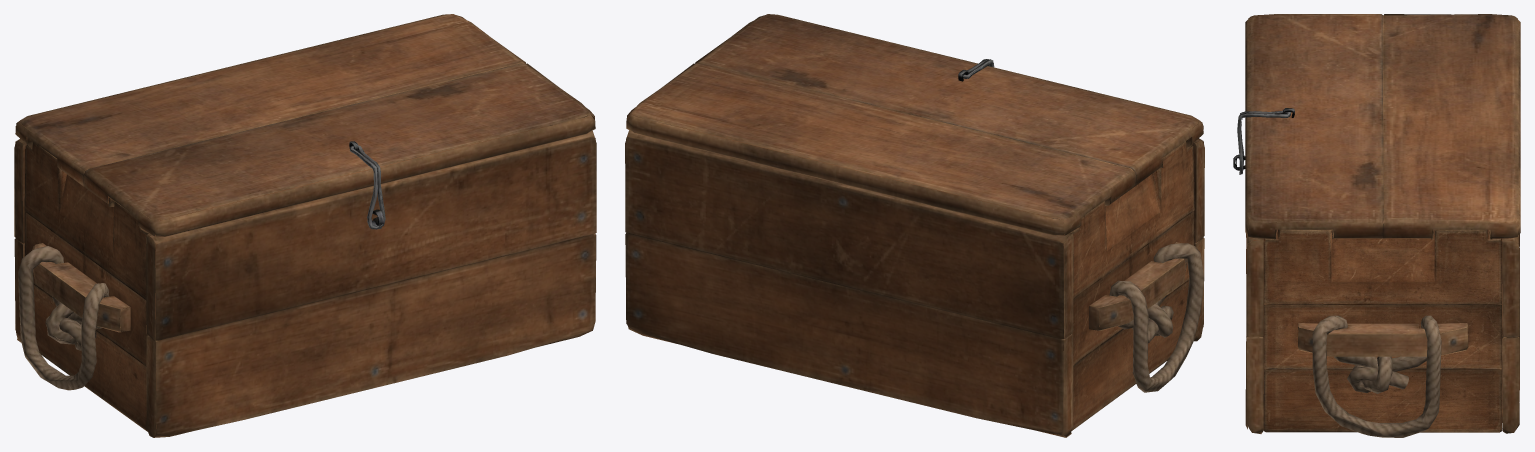
File: wooden_crate_01_1k.gltf
The picture shows the model from 3 angles, left to right: view 1: azimuth 30°, elevation 25°; view 2: azimuth 150°, elevation 25°; view 3: azimuth 270°, elevation 25°; orthographic projection. The views are drawn at different scales.
Parts seen in each view (by area): view 1: wooden_crate_01, wooden_crate_01_lid, wooden_crate_01_latch; view 2: wooden_crate_01, wooden_crate_01_lid; view 3: wooden_crate_01_lid, wooden_crate_01, wooden_crate_01_latch.
Boxes of the visible parts, x1,y1,x2,y2 form: wooden_crate_01: (14,130,596,437); wooden_crate_01_lid: (15,14,595,237); wooden_crate_01_latch: (350,145,385,229); wooden_crate_01: (625,130,1204,437); wooden_crate_01_lid: (626,14,1203,236); wooden_crate_01_lid: (1245,14,1520,239); wooden_crate_01: (1233,154,1519,437); wooden_crate_01_latch: (1237,110,1290,174).
Size of the model in its own units: 0.8247 by 0.3482 by 0.4088.
1 material, 1 textured.
